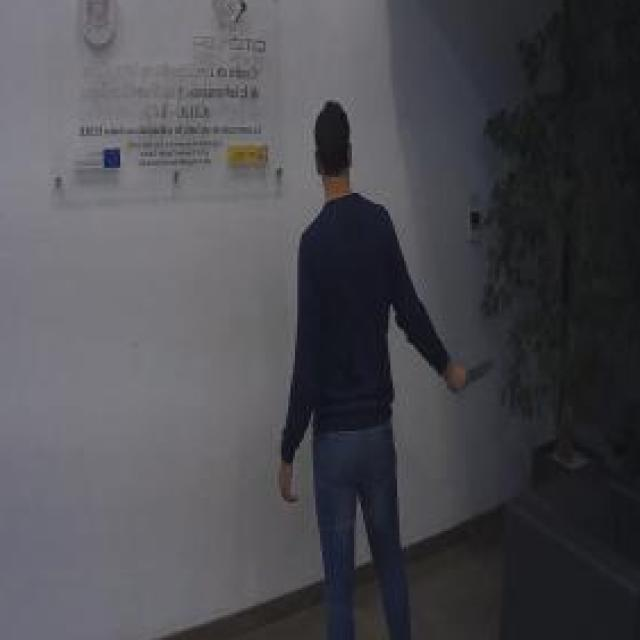knife: (449, 352, 497, 395)
